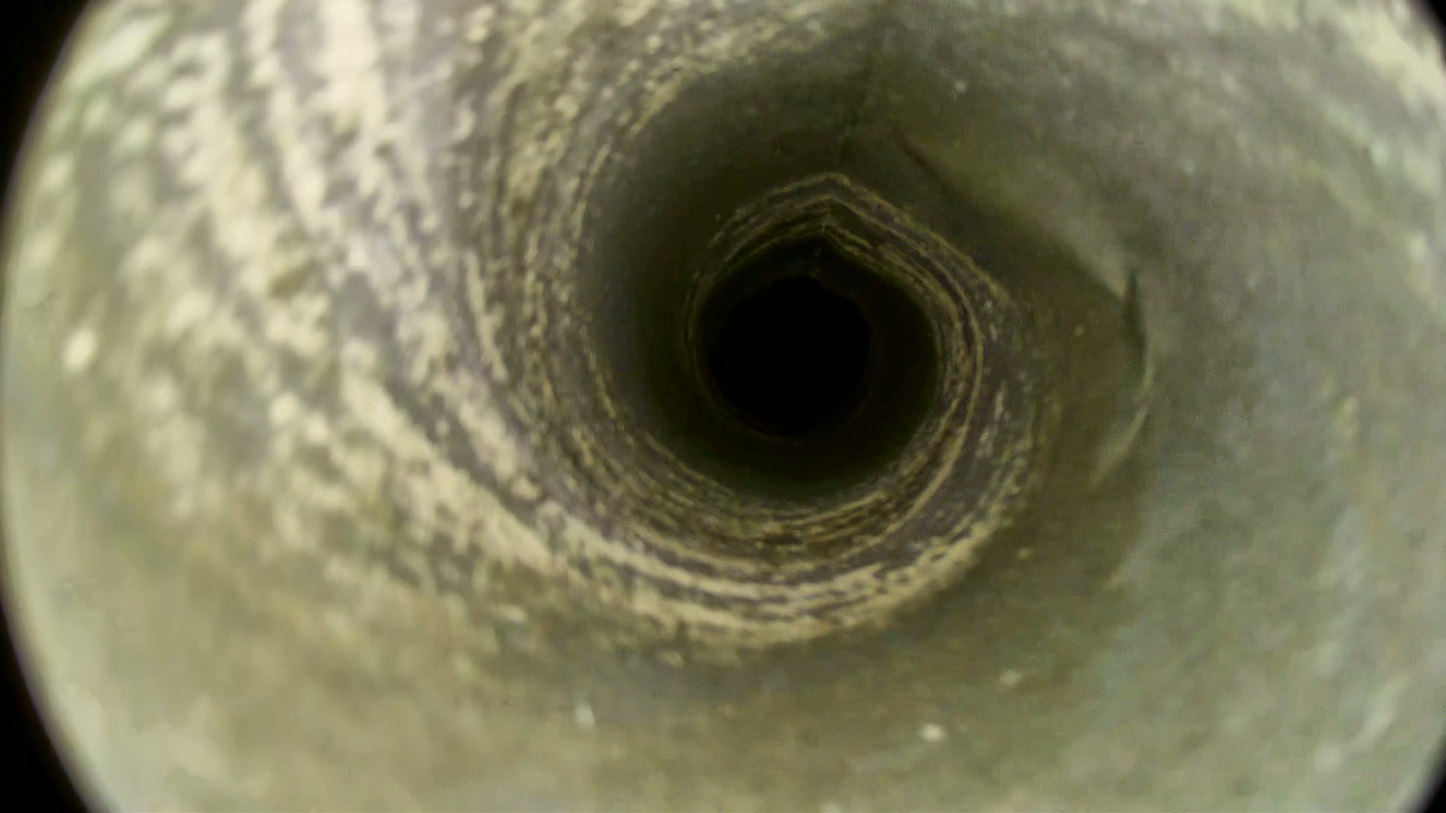hole: (717, 279, 869, 432)
